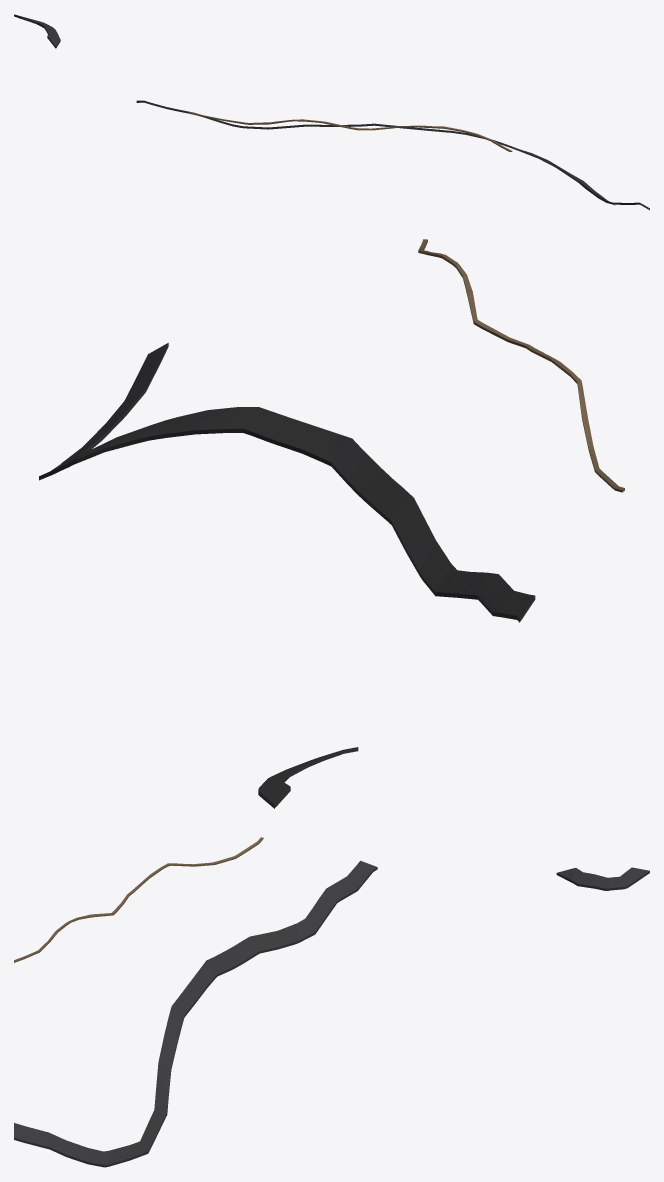
The picture shows the model from 3 angles, top to bottom: view 1: azimuth 30°, elevation 25°; view 2: azimuth 150°, elevation 25°; view 3: azimuth 270°, elevation 25°; orthographic projection. The views are drawn at different scales.
Size of the model in its own units: 213 by 77.53 by 301.
